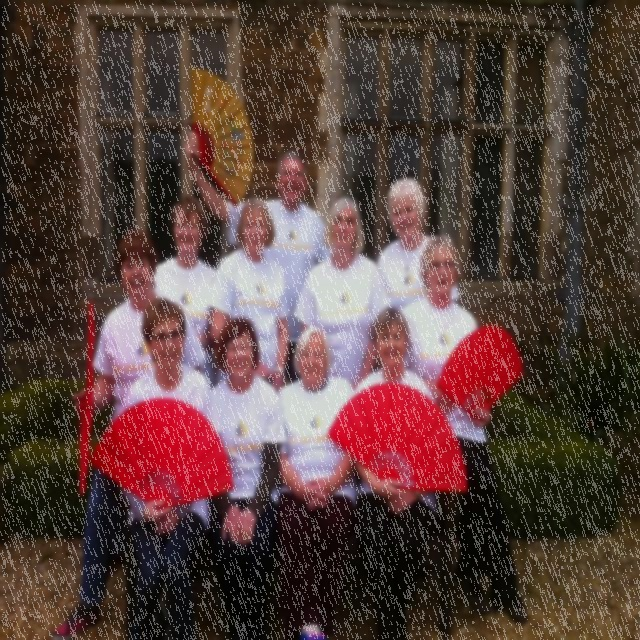pessoa: (398, 232, 529, 628), (183, 65, 336, 387), (50, 229, 162, 638), (118, 297, 225, 639), (266, 324, 368, 640), (351, 306, 440, 640), (205, 316, 288, 639), (294, 193, 394, 394), (206, 196, 292, 395), (151, 194, 223, 389), (376, 185, 461, 312)
